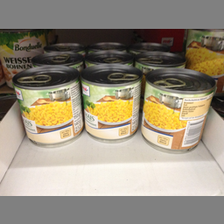corn: (140, 69, 217, 154), (12, 66, 84, 149), (81, 63, 142, 144)
